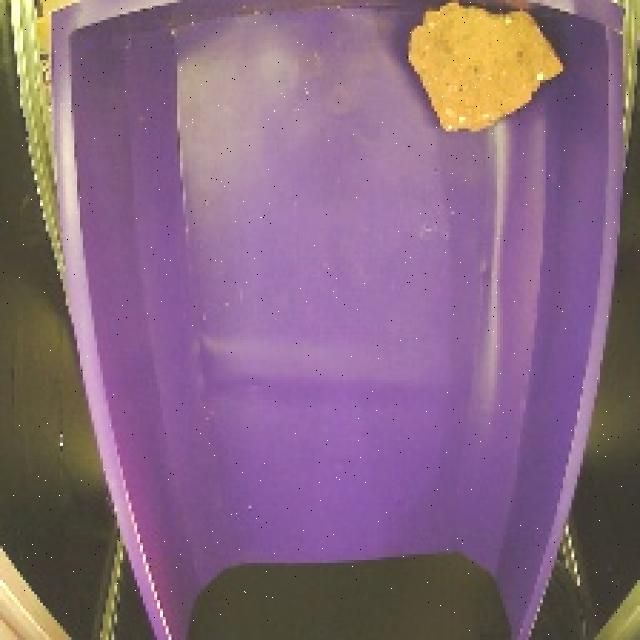brick: (399, 0, 572, 141)
